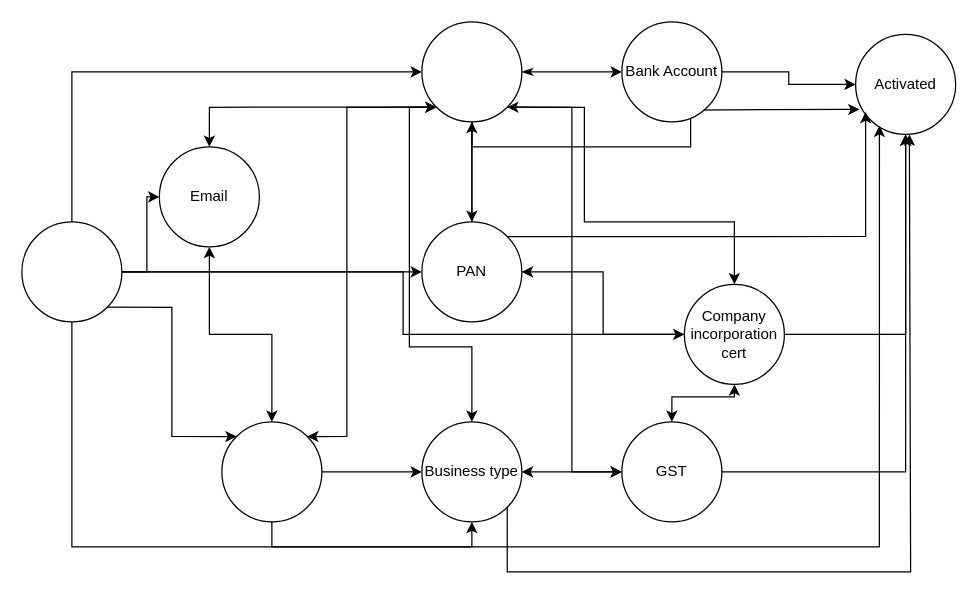
The diagram is 978 pixels wide and 604 high, and some of its shapes have lost their labels. The shapes that lost their labels are listed below. From the top down, each one's centre as x and y in pixels, then its label:
At point (471, 71): "User PAN".
At point (71, 271): "Start".
At point (271, 471): "phone number".
